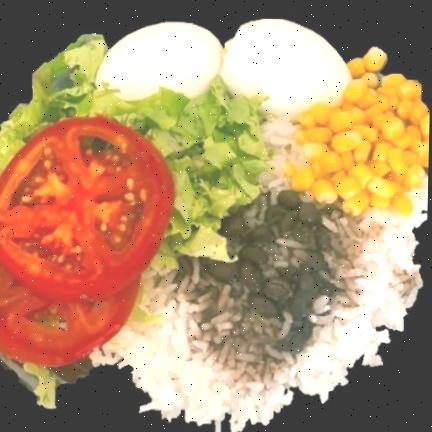beans: (173, 190, 374, 377)
corn: (287, 47, 430, 217)
egg: (93, 18, 352, 113)
rice: (93, 115, 428, 426)
salad: (0, 35, 268, 322)
tomato: (0, 116, 177, 369)
